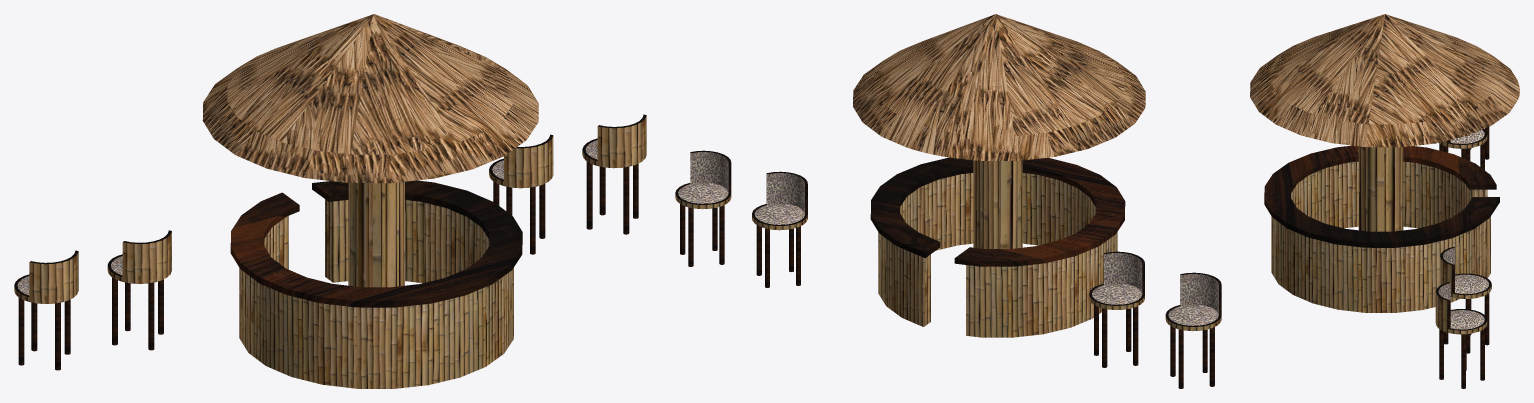
The model's file is tiki_bar.glb.
The picture shows the model from 3 angles, left to right: view 1: azimuth 30°, elevation 25°; view 2: azimuth 150°, elevation 25°; view 3: azimuth 270°, elevation 25°; orthographic projection. The views are drawn at different scales.
Visible parts, largest first — view 1: Material2 (×3), Material3; view 2: Material2 (×3), Material3; view 3: Material2 (×3), Material3.
Part boxes in pixels (bbox=[...]): Material2 (×3): bbox=[14, 14, 646, 388]; Material3: bbox=[17, 140, 597, 295]; Material2 (×3): bbox=[675, 14, 1221, 388]; Material3: bbox=[678, 152, 1218, 325]; Material2 (×3): bbox=[1250, 14, 1519, 388]; Material3: bbox=[1438, 130, 1489, 329].
Bounding box in the file's own units: 311 × 151 × 146.
Materials: 5 (4 with a texture image).
